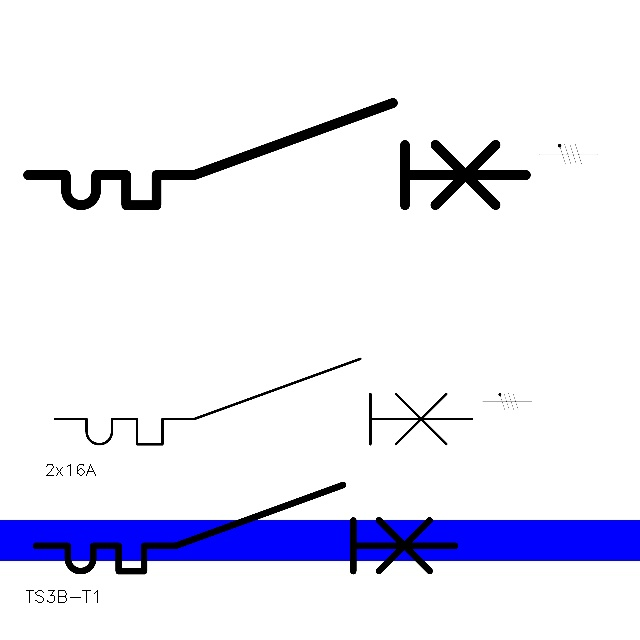interruptor_termomagnetico: (15, 90, 538, 218), (25, 474, 466, 582), (44, 348, 482, 455)
